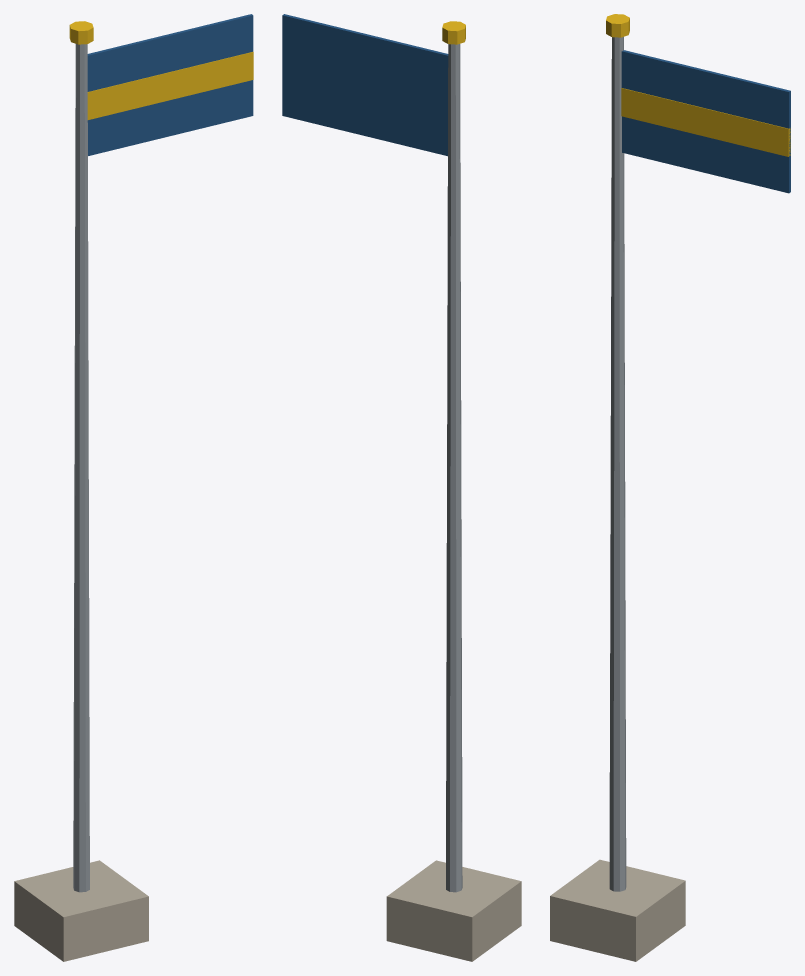
File: Prop_FlagPole.fbx
3 renders of one model, left to right at view 1: azimuth 30°, elevation 25°; view 2: azimuth 150°, elevation 25°; view 3: azimuth 330°, elevation 25°, orthographic.
Visible parts, largest first — view 1: Prop_FlagPole; view 2: Prop_FlagPole; view 3: Prop_FlagPole.
Part boxes in pixels (x1,y1,x2,y2): Prop_FlagPole: (14,14,253,961); Prop_FlagPole: (282,14,521,961); Prop_FlagPole: (550,14,790,961).
Size of the model in its own units: 2 by 8.12 by 0.8.
